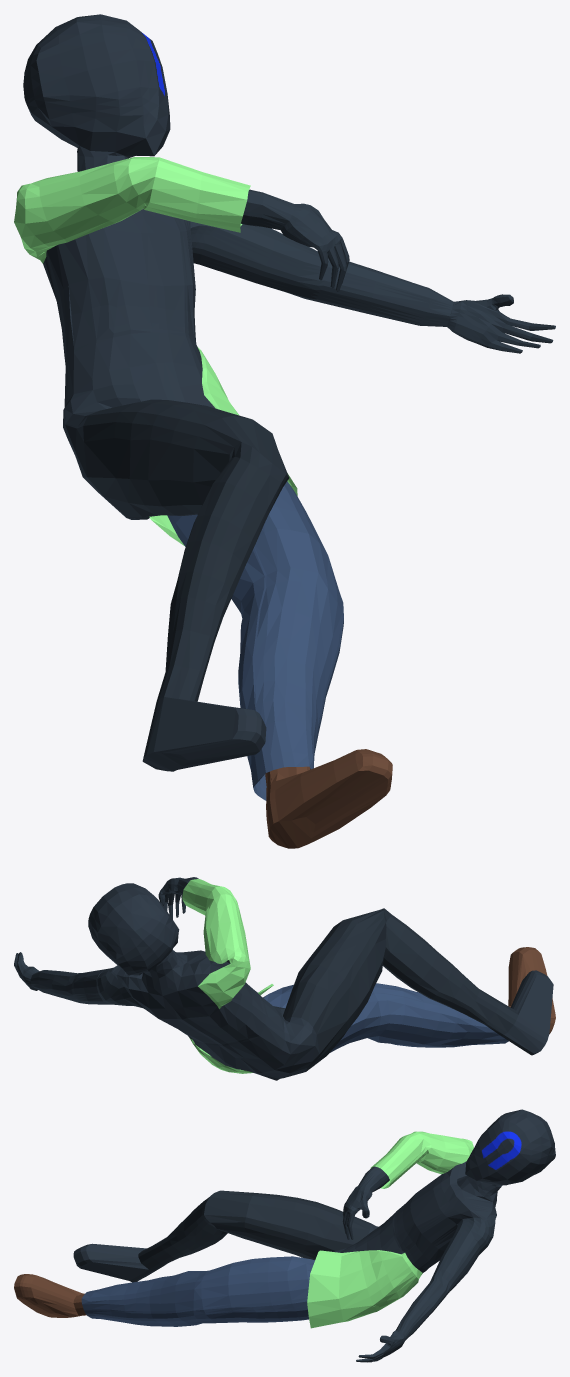
The model's file is Mar_Die_000012.obj.
The picture shows the model from 3 angles, top to bottom: view 1: azimuth 30°, elevation 25°; view 2: azimuth 150°, elevation 25°; view 3: azimuth 270°, elevation 25°; orthographic projection. The views are drawn at different scales.
Parts seen in each view (by area): view 1: Cube.000_Cube.001; view 2: Cube.000_Cube.001; view 3: Cube.000_Cube.001.
Part boxes in pixels (x1=…): Cube.000_Cube.001: x1=14, y1=14, x2=555, y2=848; Cube.000_Cube.001: x1=14, y1=877, x2=555, y2=1080; Cube.000_Cube.001: x1=14, y1=1109, x2=555, y2=1362.
Bounding box in the file's own units: 2.52 × 1.85 × 3.46.
